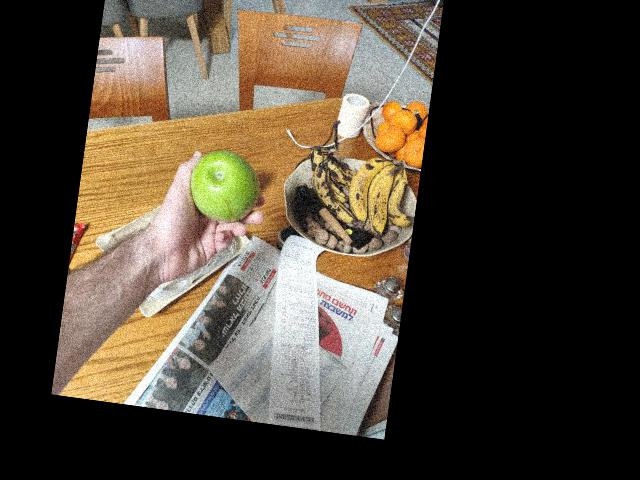apple: (186, 145, 265, 226)
